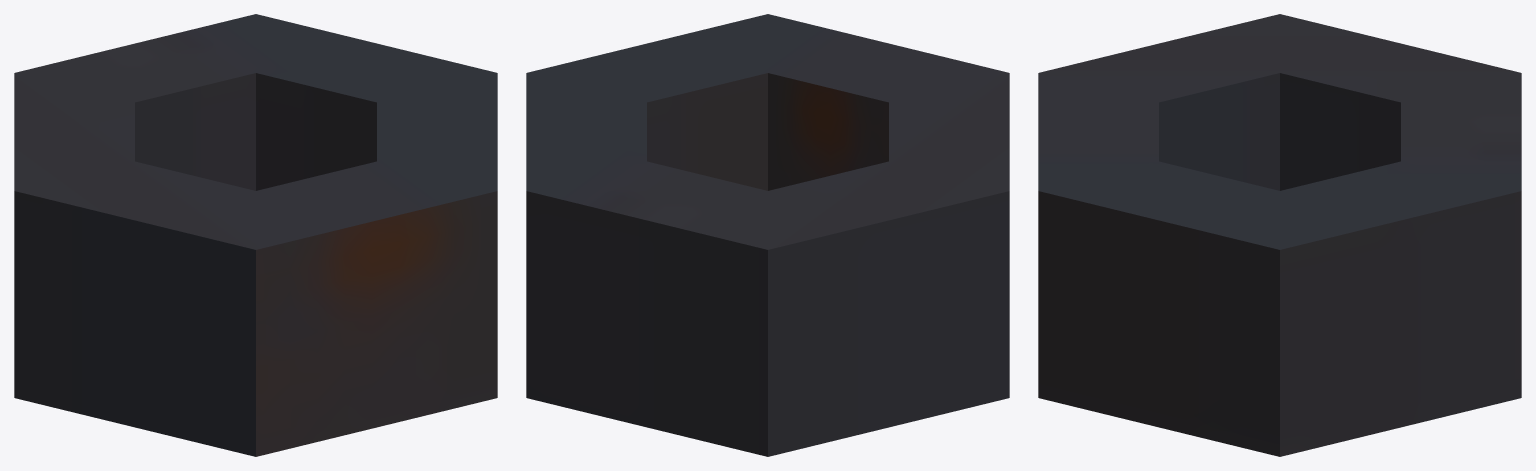
The model's file is Nut.glb.
3 views of the same model, side by side, from view 1: azimuth 30°, elevation 25°; view 2: azimuth 150°, elevation 25°; view 3: azimuth 270°, elevation 25° (orthographic).
Visible parts, largest first — view 1: Nut; view 2: Nut; view 3: Nut.
Part boxes in pixels (x1,y1,x2,y2): Nut: (14,14,497,456); Nut: (526,14,1009,456); Nut: (1038,14,1521,456).
Size of the model in its own units: 0.044 by 0.018 by 0.0381.
1 material, 1 textured.
